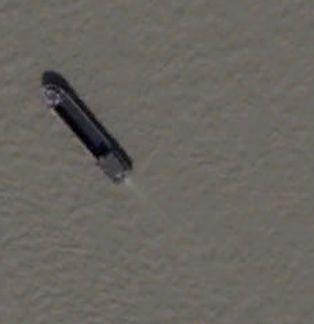boat: (40, 78, 134, 187)
